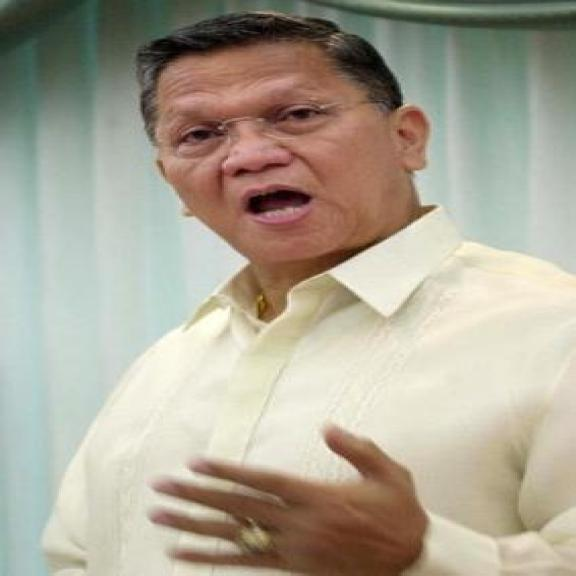face: (146, 45, 456, 254)
